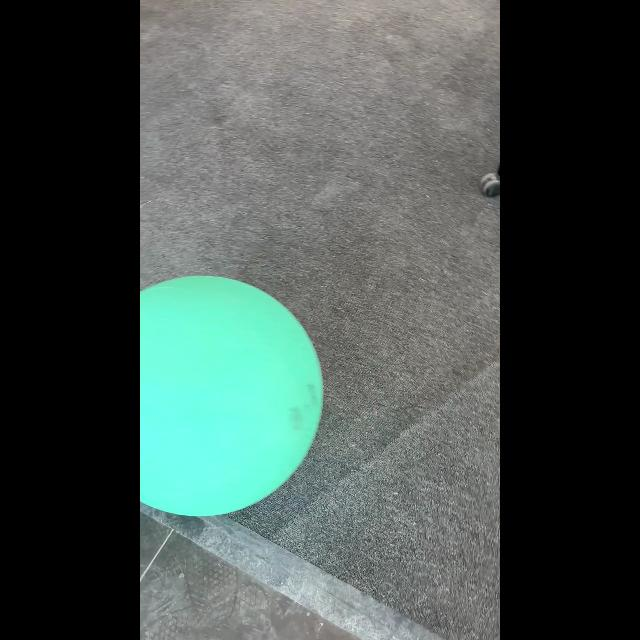ALGAE: (140, 274, 324, 518)
